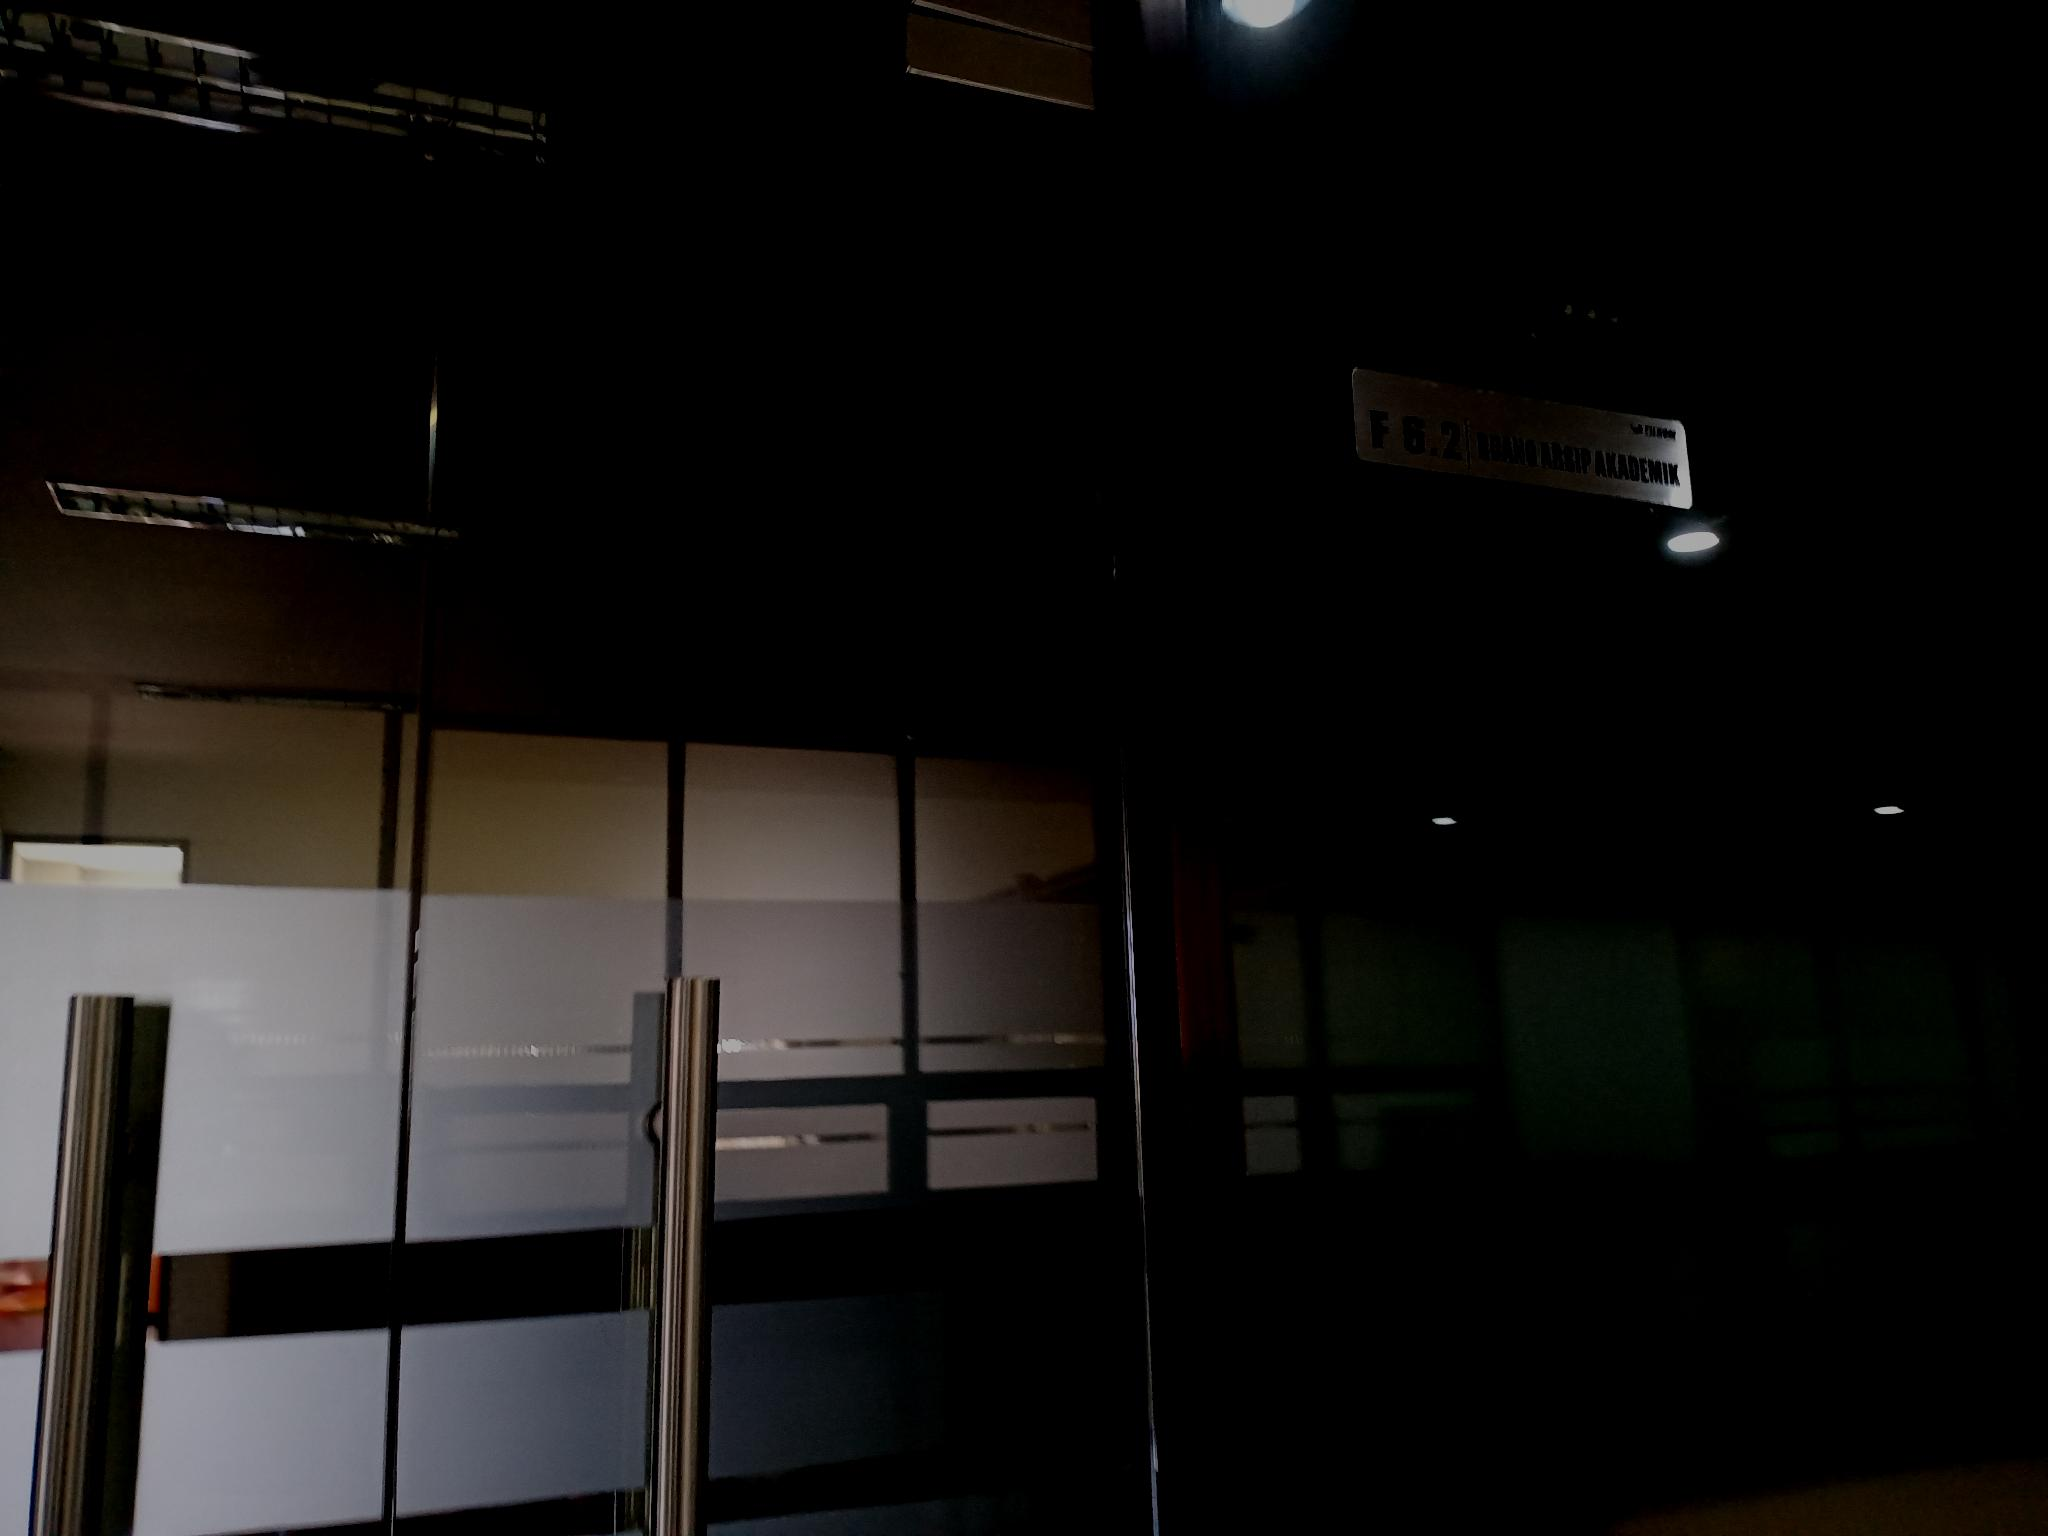plate: (1353, 368, 1693, 511)
